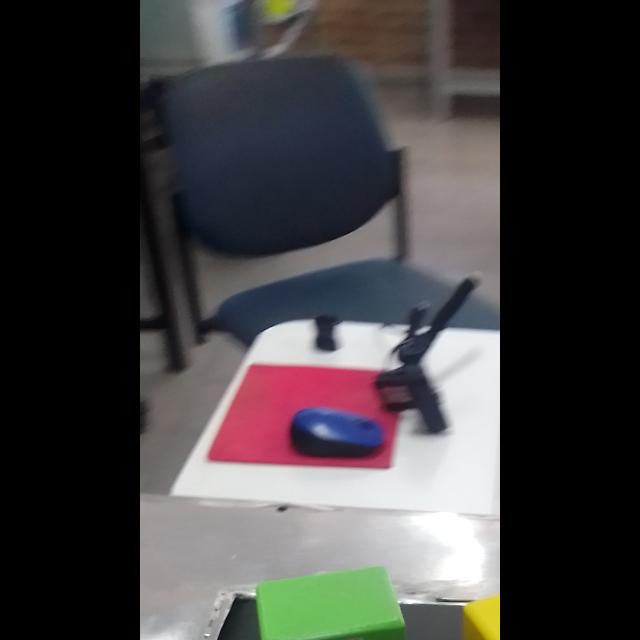greenBox: (240, 554, 422, 640)
yellowBox: (436, 556, 499, 640)
